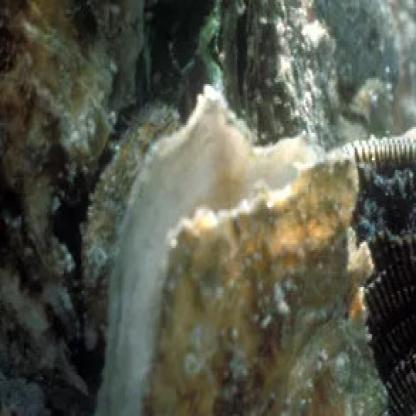Oyster-Closed: (354, 135, 416, 416)
Oyster-Open: (95, 86, 390, 416)
